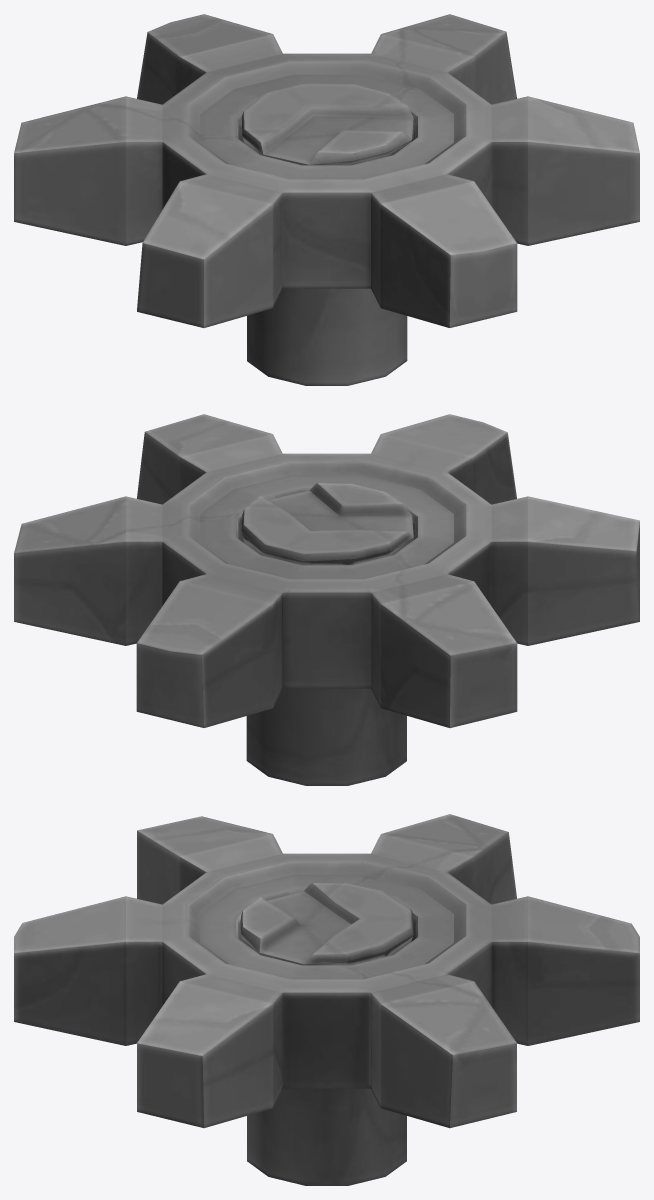
File: obj_gear08_medium.gltf
3 views of the same model, one above another, from view 1: azimuth 30°, elevation 25°; view 2: azimuth 150°, elevation 25°; view 3: azimuth 270°, elevation 25° (orthographic).
Visible parts, largest first — view 1: obj_gear08_medium; view 2: obj_gear08_medium; view 3: obj_gear08_medium.
Boxes of the visible parts, bbox=[...] form: obj_gear08_medium: bbox=[14, 14, 639, 385]; obj_gear08_medium: bbox=[14, 414, 639, 785]; obj_gear08_medium: bbox=[14, 814, 639, 1185].
Size of what is drawn, in the model's own units: 0.3235 by 0.1439 by 0.3485.
Materials: 1 (1 with a texture image).
